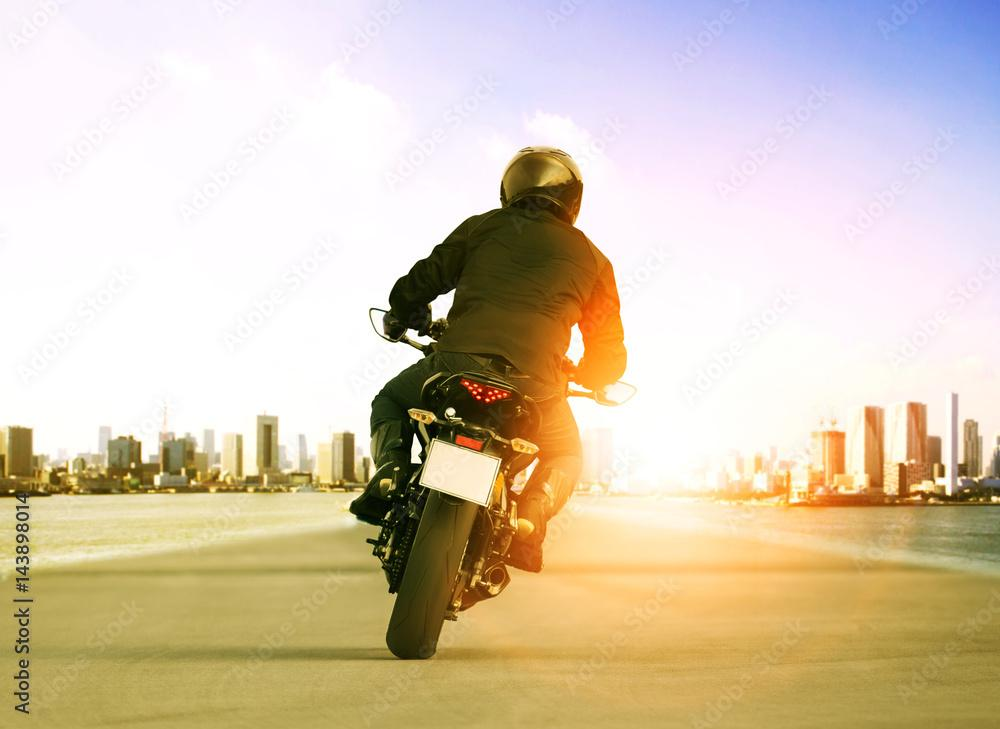helmet: (499, 144, 584, 228)
